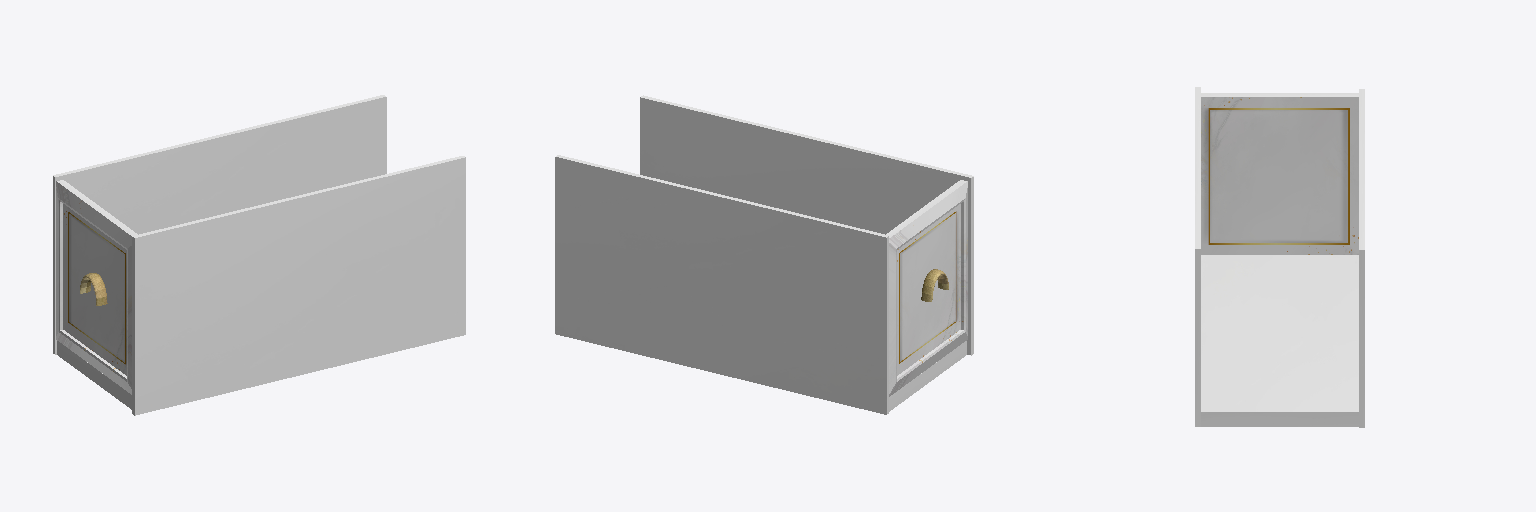
3 views of the same model, side by side, from view 1: azimuth 30°, elevation 25°; view 2: azimuth 150°, elevation 25°; view 3: azimuth 270°, elevation 25° (orthographic).
Visible parts, largest first — view 1: CajonDer; view 2: CajonDer; view 3: CajonDer.
Boxes of the visible parts, x1,y1,x2,y2 form: CajonDer: [53, 95, 465, 415]; CajonDer: [555, 95, 973, 414]; CajonDer: [1195, 87, 1364, 427].
Bounding box in the file's own units: 4.31 × 2.14 × 1.86.
Materials: 2 (2 with a texture image).